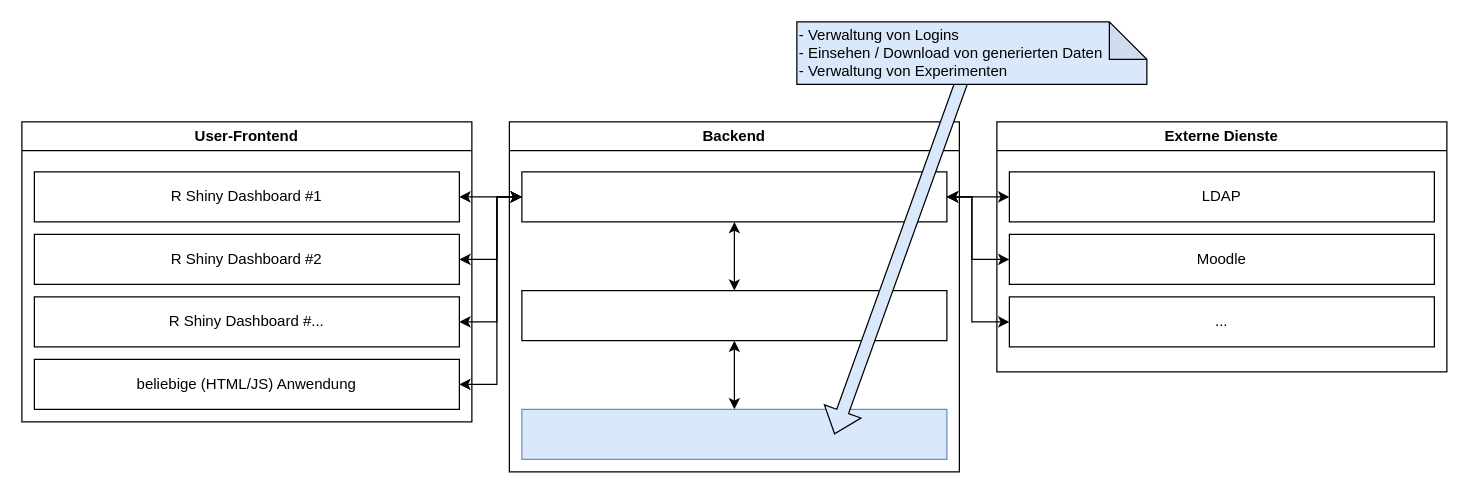
The diagram is 1469 pixels wide and 494 high, and some of its shapes have lost their labels. Each missing label, with the centre of its shape:
Admin-Interface: (734,433)
Datenbank: (734,315)
Web API: (734,196)
